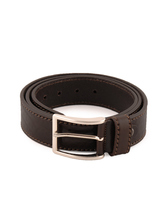other: (12, 67, 152, 161)
